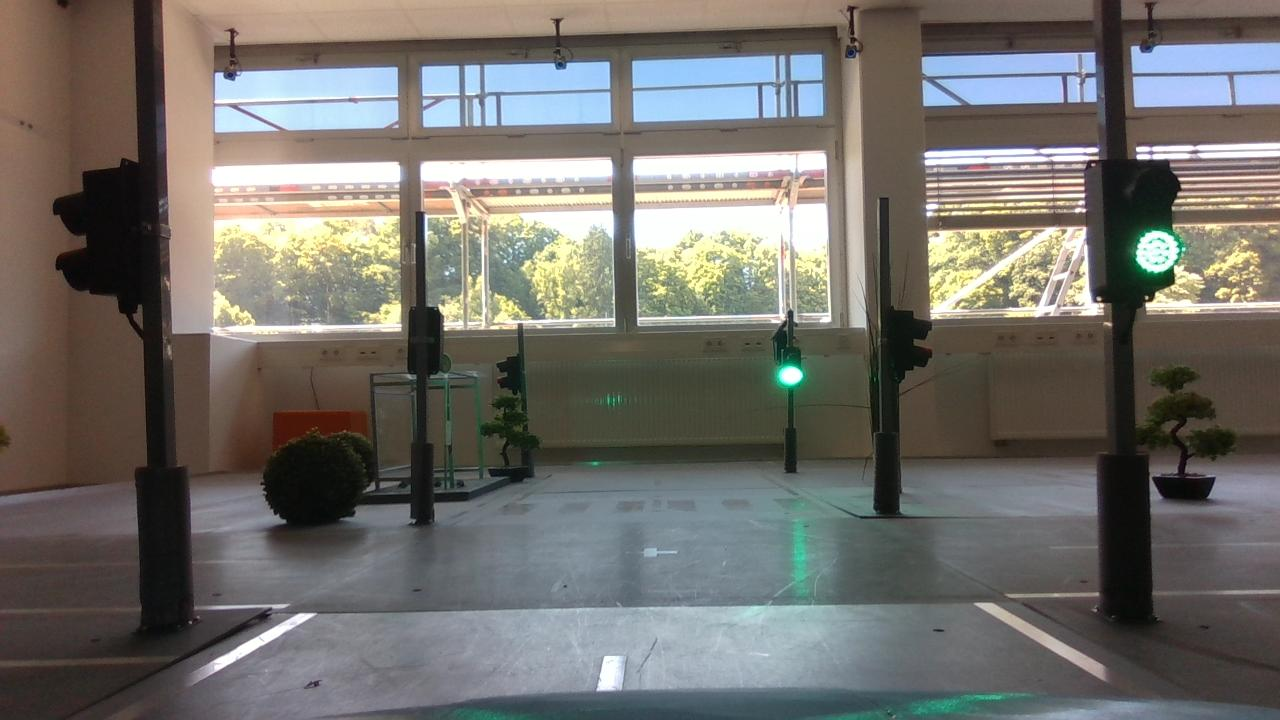traffic_light_green: (1070, 145, 1190, 320)
